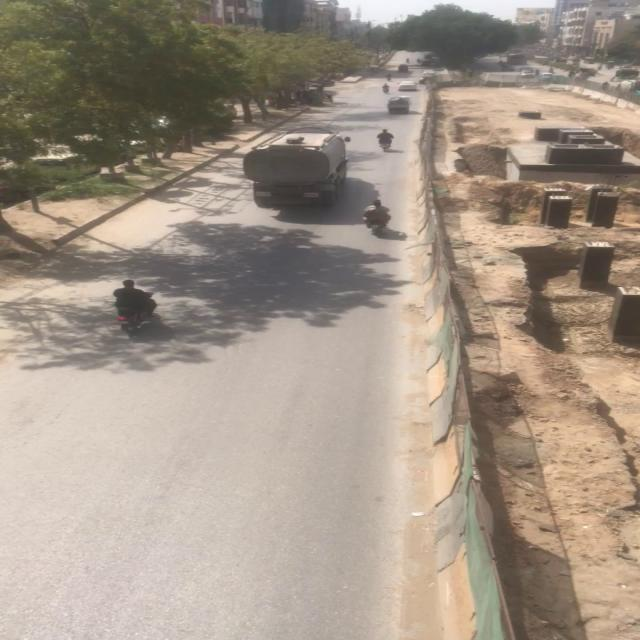motorbike: (104, 274, 167, 341), (357, 196, 400, 240), (372, 127, 401, 155)
truck: (236, 124, 354, 212)
